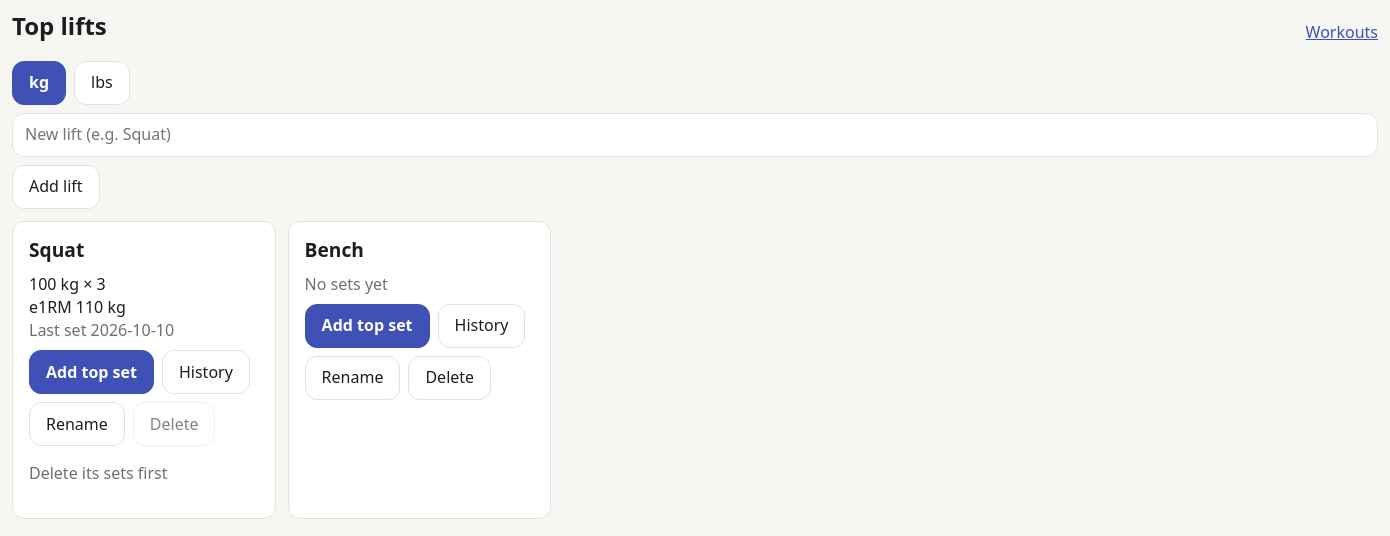
it: switching the page unit to lbs converts the cards and saves the preference
The image size is (1390, 536).
Expected: the text "100 kg × 3" is shown, [29,273,106,295]
Click the button "lbs": (102, 83) [74,61,130,105]
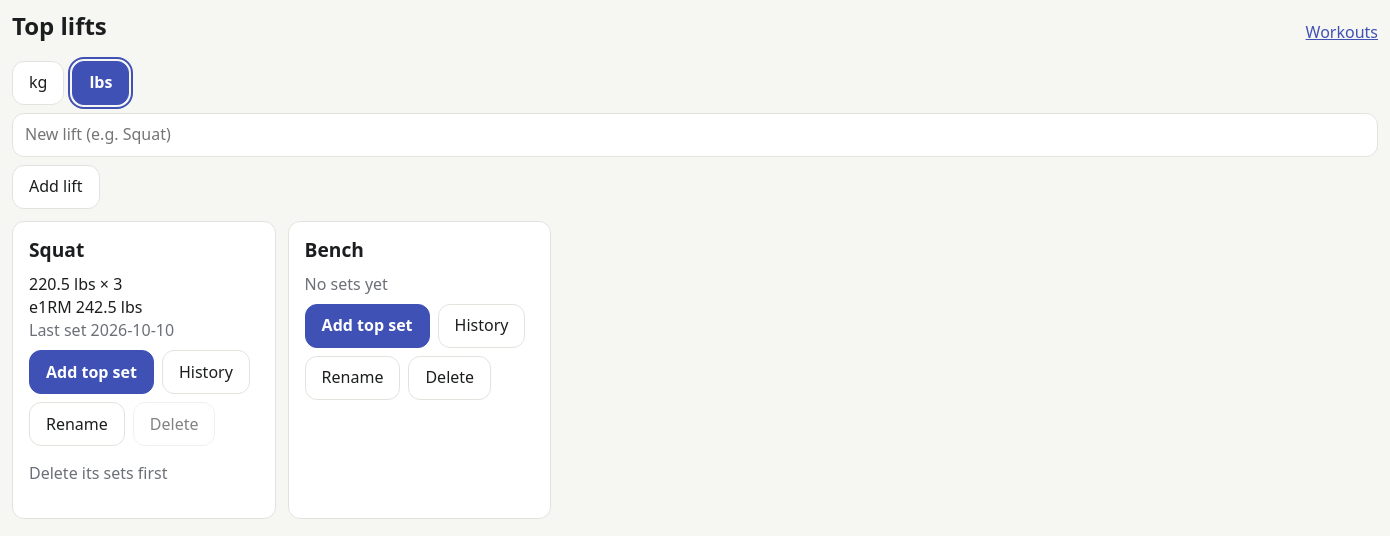
Expected: the text "220.5 lbs × 3" is shown, [29,273,122,295]
Expected: the text "e1RM 242.5 lbs" is shown, [29,296,142,318]
